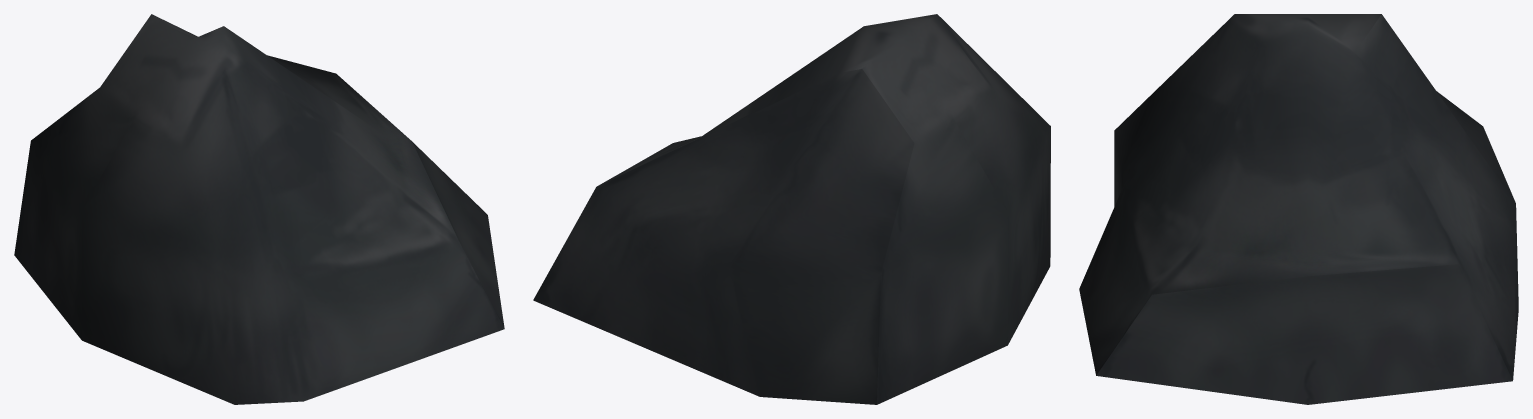
File: rock2.FBX
The picture shows the model from 3 angles, left to right: view 1: azimuth 30°, elevation 25°; view 2: azimuth 150°, elevation 25°; view 3: azimuth 270°, elevation 25°; orthographic projection.
Visible parts, largest first — view 1: 2; view 2: 2; view 3: 2.
Boxes of the visible parts, box(x1,y1,x2,y2) form: 2: box(14, 14, 504, 404); 2: box(533, 14, 1050, 404); 2: box(1079, 14, 1518, 404).
Size of the model in its own units: 103 by 69.27 by 96.62.
